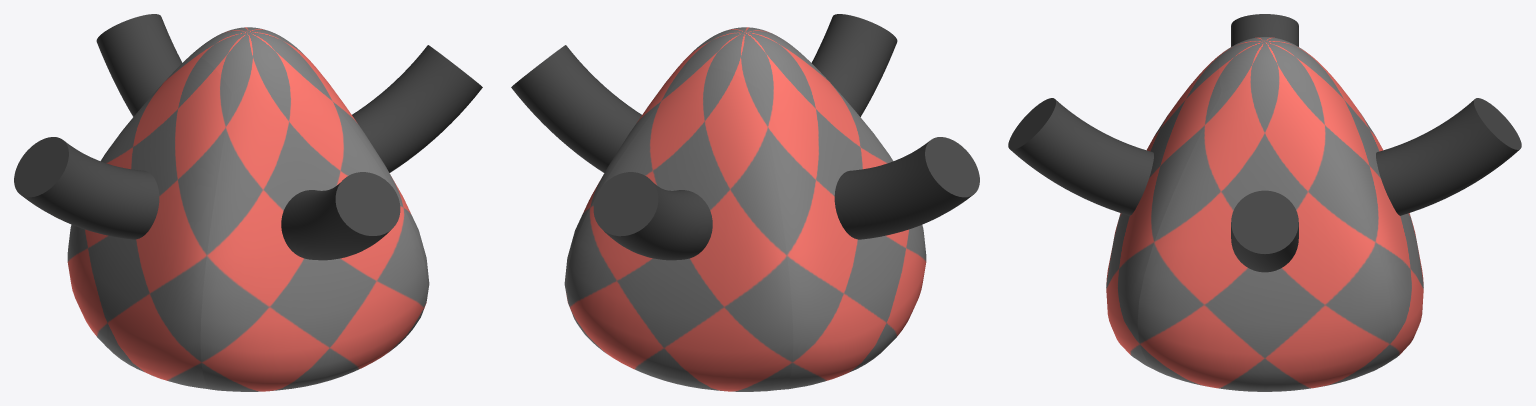
The model's file is Body(Pyramidal)+Colour(More_Red)+Pattern(Diamond)+Arm_Angle(Bent_Up).fbx.
3 views of the same model, side by side, from view 1: azimuth 30°, elevation 25°; view 2: azimuth 150°, elevation 25°; view 3: azimuth 270°, elevation 25° (orthographic). The views are drawn at different scales.
Parts seen in each view (by area): view 1: Body(Pyramidal)+Colour(More_Red)+Pattern(Diamond)+Arm_Angle( (×5); view 2: Body(Pyramidal)+Colour(More_Red)+Pattern(Diamond)+Arm_Angle( (×5); view 3: Body(Pyramidal)+Colour(More_Red)+Pattern(Diamond)+Arm_Angle( (×5).
Boxes of the visible parts, x1,y1,x2,y2 form: Body(Pyramidal)+Colour(More_Red)+Pattern(Diamond)+Arm_Angle( (×5): (14,14,482,391); Body(Pyramidal)+Colour(More_Red)+Pattern(Diamond)+Arm_Angle( (×5): (511,14,979,391); Body(Pyramidal)+Colour(More_Red)+Pattern(Diamond)+Arm_Angle( (×5): (1008,14,1521,391).
Size of the model in its own units: 60.67 by 40 by 60.67.
2 materials, 2 textured.
